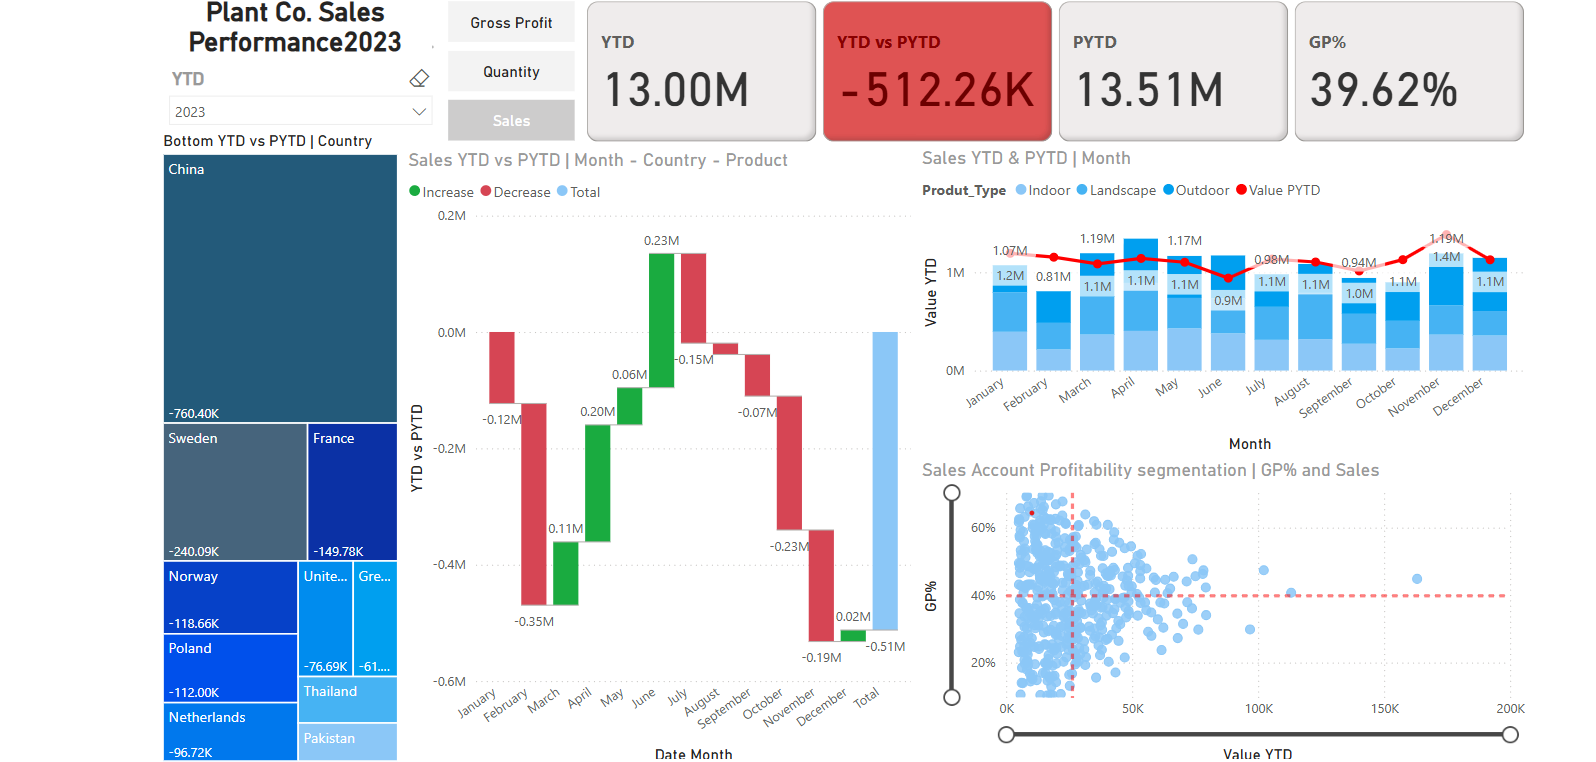

What the dashboard file says about the page in this screenshot:
{"tool":"powerbi","page":{"name":"Page 1","canvas":[1280,720],"ordinal":0},"visuals":[{"type":"cardVisual","fields":{"Data":["_Measure.S_YTD","_Measure.YTD vs PYTD","_Measure.S_PYTD","_Measure.GP%"]},"box":[395,0,885,141.2],"z":0},{"type":"advancedSlicerVisual","fields":{"Values":["Slc_Values.Values"]},"box":[266.2,0,128.8,141.2],"z":1000},{"type":"slicer","fields":{"Values":["Dim_Date.Date.Variation.Date Hierarchy.Year"]},"box":[0,61.2,266.2,65],"z":2000},{"type":"treemap","title":"Bottom YTD vs PYTD | Country","fields":{"Values":["_Measure.YTD vs PYTD"],"Group":["Dim_Accounts.country"]},"box":[0,126.2,228.8,593.8],"z":3000},{"type":"waterfallChart","fields":{"Y":["_Measure.YTD vs PYTD"],"Category":["Dim_Date.Date.Variation.Date Hierarchy.Month","Dim_Accounts.country","Dim_Product.Produt_Type","Dim_Product.Product_Name"]},"box":[228.9,141.8,478.9,578.4],"z":4000},{"type":"lineStackedColumnComboChart","fields":{"Y":["_Measure.S_YTD"],"Category":["Dim_Date.Date.Variation.Date Hierarchy.Quarter","Dim_Date.Date.Variation.Date Hierarchy.Month"],"Y2":["_Measure.S_PYTD"],"Series":["Dim_Product.Produt_Type"]},"box":[707.5,141.2,572.5,290],"z":5000},{"type":"scatterChart","fields":{"Y":["_Measure.GP%"],"X":["_Measure.S_YTD"],"Category":["Dim_Accounts.Account"]},"box":[708,431,572,289],"z":6000},{"type":"clusteredColumnChart","box":[0,0,256.2,61.2],"z":7000}]}

Visuals, with their boxes on the page's 1280x720 design canvas (x1, y1, x2, y2). These are canvas units, not pixel positions in the 1596x762 screenshot, which may show the page scaled, cropped or inside an application window:
cardVisual - _Measure.S_YTD x _Measure.YTD vs PYTD: box(395, 0, 1280, 141)
advancedSlicerVisual - Slc_Values.Values: box(266, 0, 395, 141)
slicer - Dim_Date.Date.Variation.Date Hierarchy.Year: box(0, 61, 266, 126)
"Bottom YTD vs PYTD | Country" treemap: box(0, 126, 229, 720)
waterfallChart - _Measure.YTD vs PYTD x Dim_Date.Date.Variation.Date Hierarchy.Month: box(229, 142, 708, 720)
lineStackedColumnComboChart - _Measure.S_YTD x Dim_Date.Date.Variation.Date Hierarchy.Quarter: box(708, 141, 1280, 431)
scatterChart - _Measure.GP% x _Measure.S_YTD: box(708, 431, 1280, 720)
clusteredColumnChart: box(0, 0, 256, 61)
